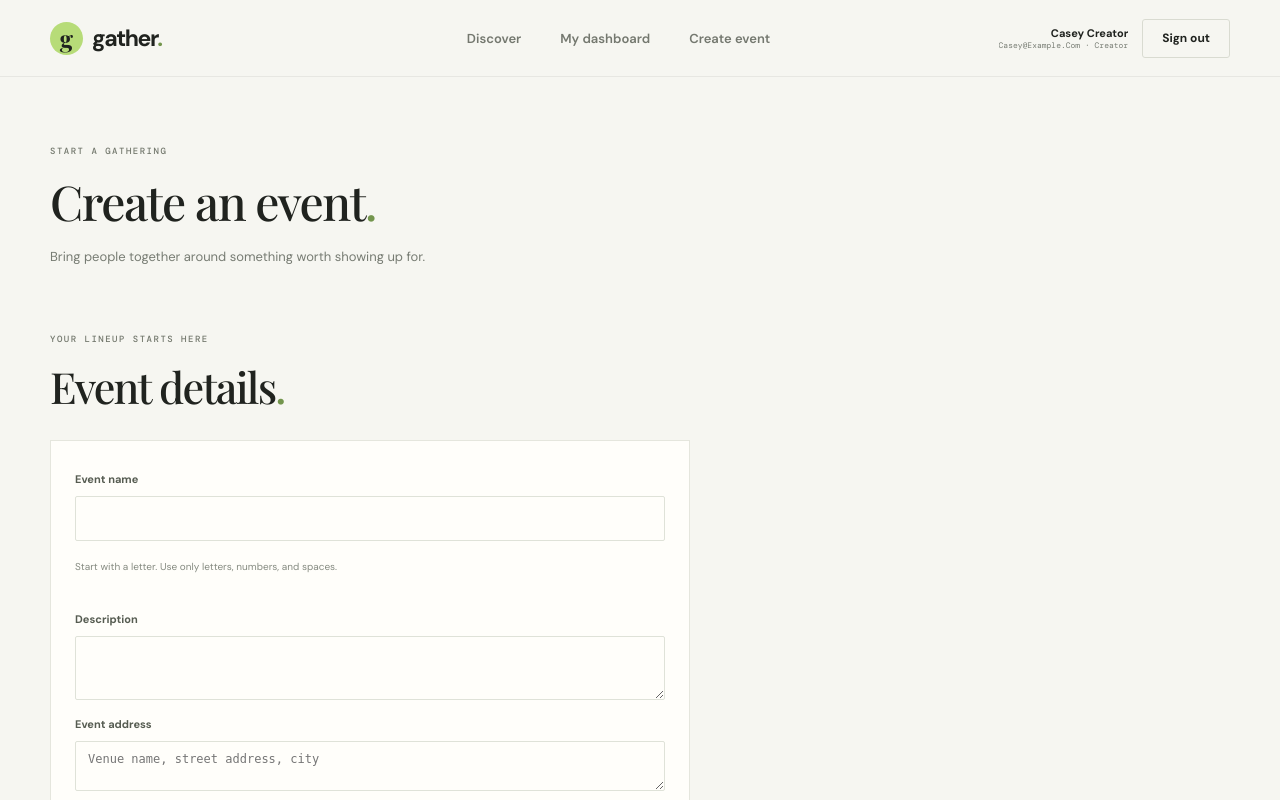
creator event creation page › rejects event names that start with a number or contain special characters
The image size is (1280, 800).
Type "2026 Festival!" into the field labelled "Event name". click: (370, 519)
box: [75, 496, 665, 541]
(page scrolled)
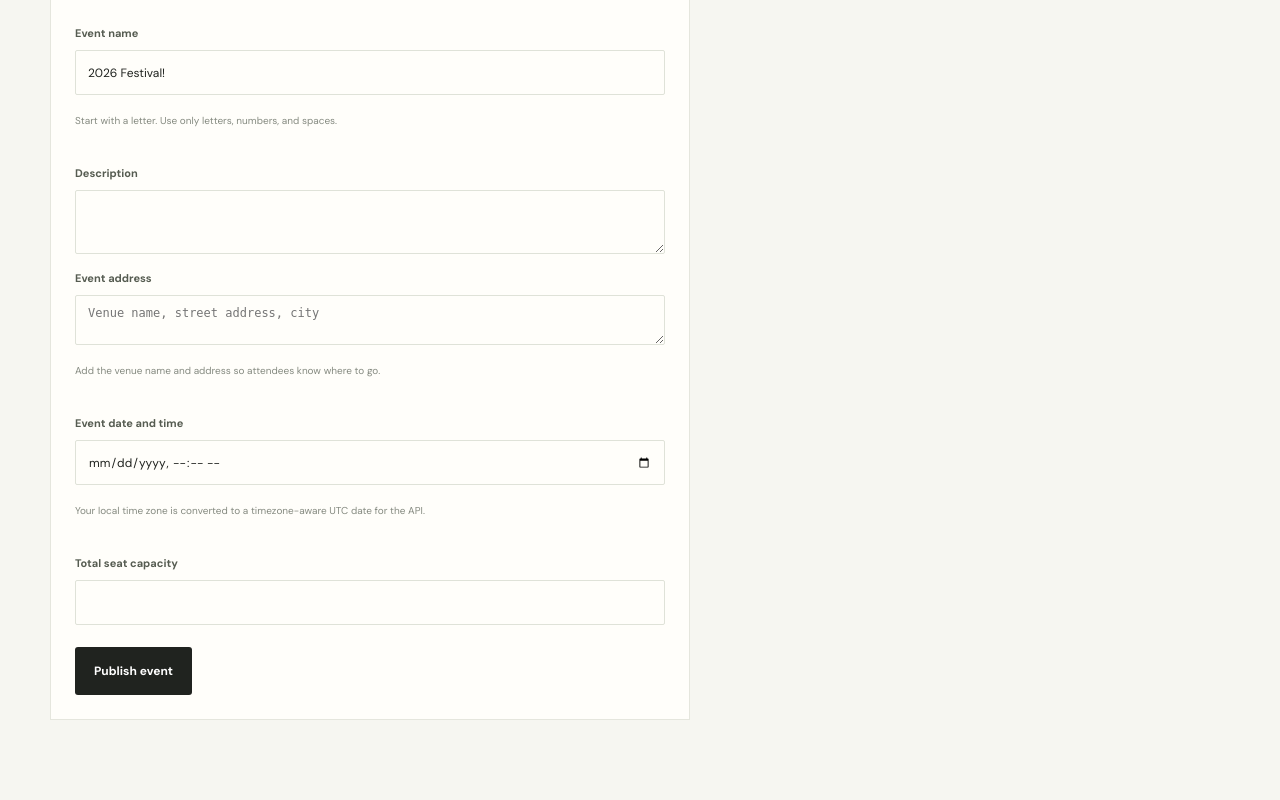
Type "2030-12-01T18:30" into the field labelled "Event date and time". click: (370, 463)
box: [75, 440, 665, 485]
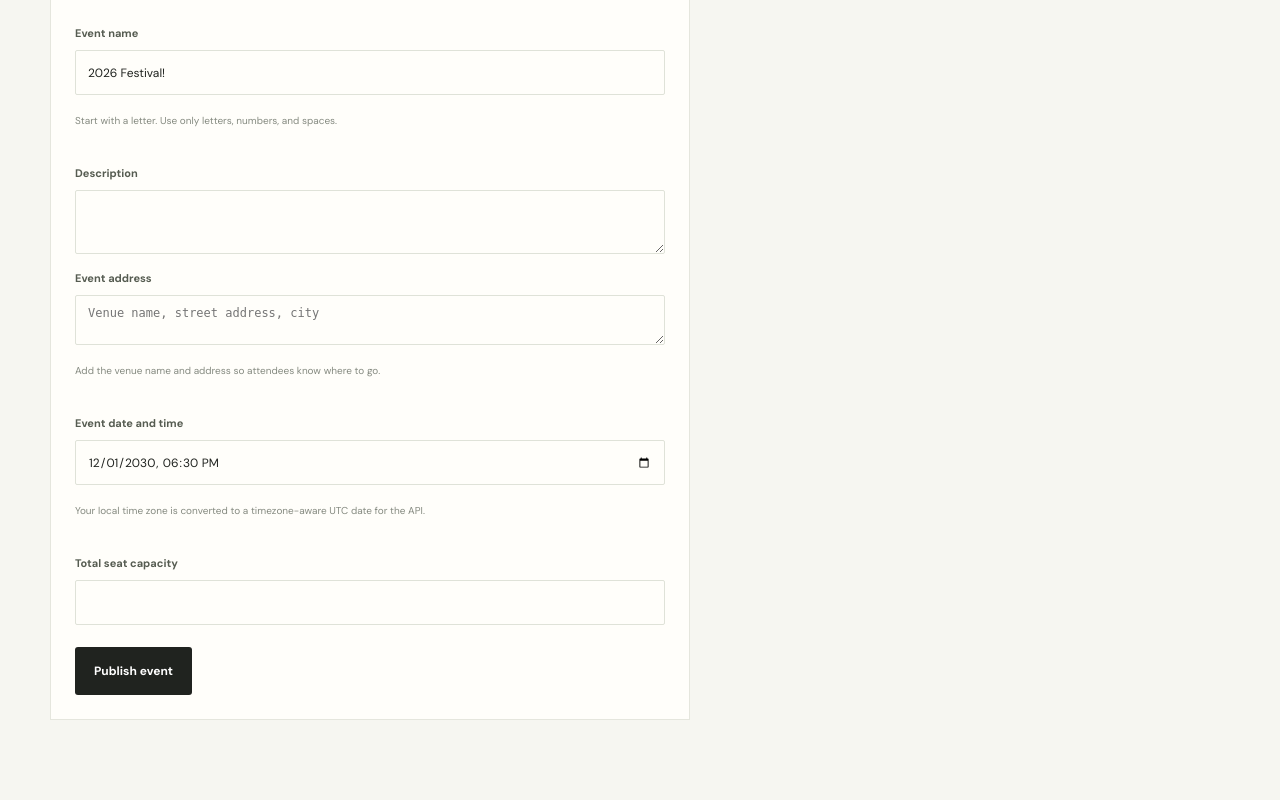
Type "25" into the number field labelled "Total seat capacity". click: (370, 603)
box: [75, 580, 665, 625]
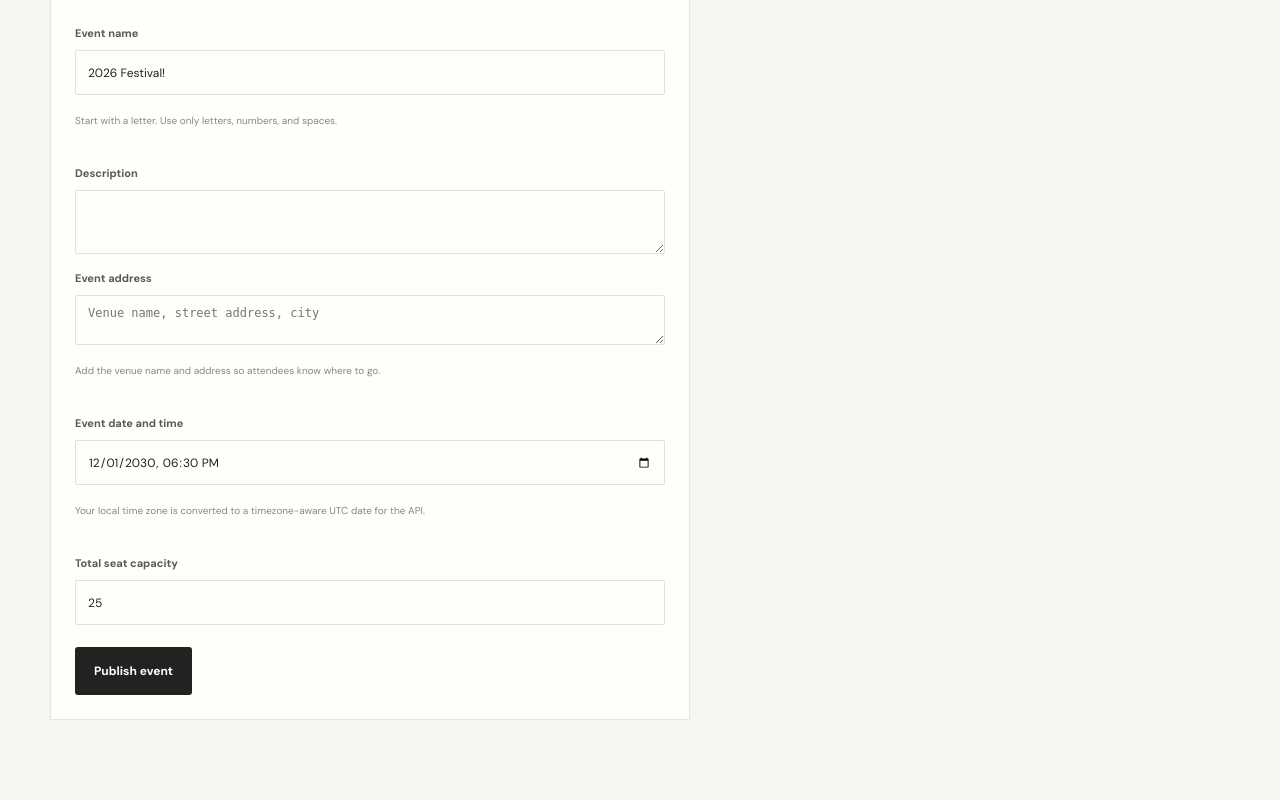
Click the button "Publish event". click: (134, 671)
box: [75, 647, 192, 695]
(page scrolled)
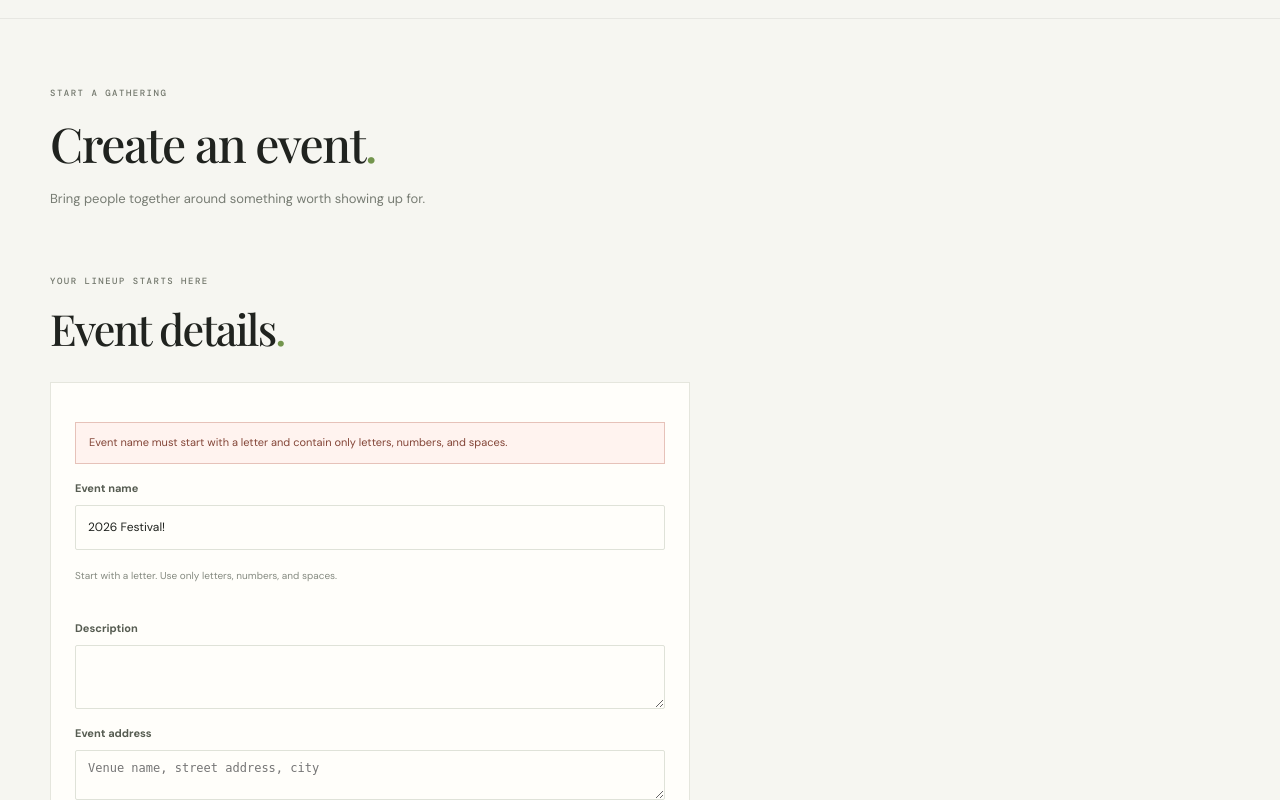
Now the message shows "Event name must start with a letter and contain only letters, numbers, and spaces.", box [89, 435, 507, 449]
